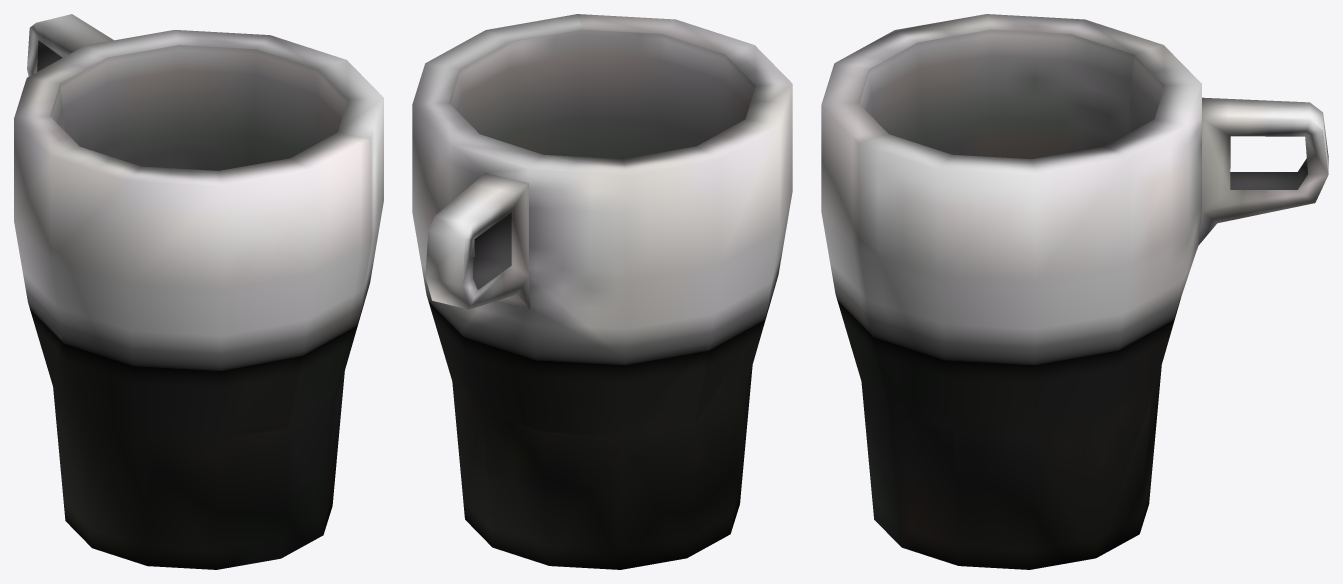
Rendered from Cup_Ceramic01.FBX.
The picture shows the model from 3 angles, left to right: view 1: azimuth 30°, elevation 25°; view 2: azimuth 150°, elevation 25°; view 3: azimuth 270°, elevation 25°; orthographic projection. The views are drawn at different scales.
Visible parts, largest first — view 1: Cup_Ceramic01; view 2: Cup_Ceramic01; view 3: Cup_Ceramic01.
Part boxes in pixels (x1=…): Cup_Ceramic01: x1=14, y1=14, x2=383, y2=569; Cup_Ceramic01: x1=412, y1=14, x2=792, y2=569; Cup_Ceramic01: x1=821, y1=14, x2=1328, y2=569.
Bounding box in the file's own units: 0.0991 × 0.12 × 0.1322.
